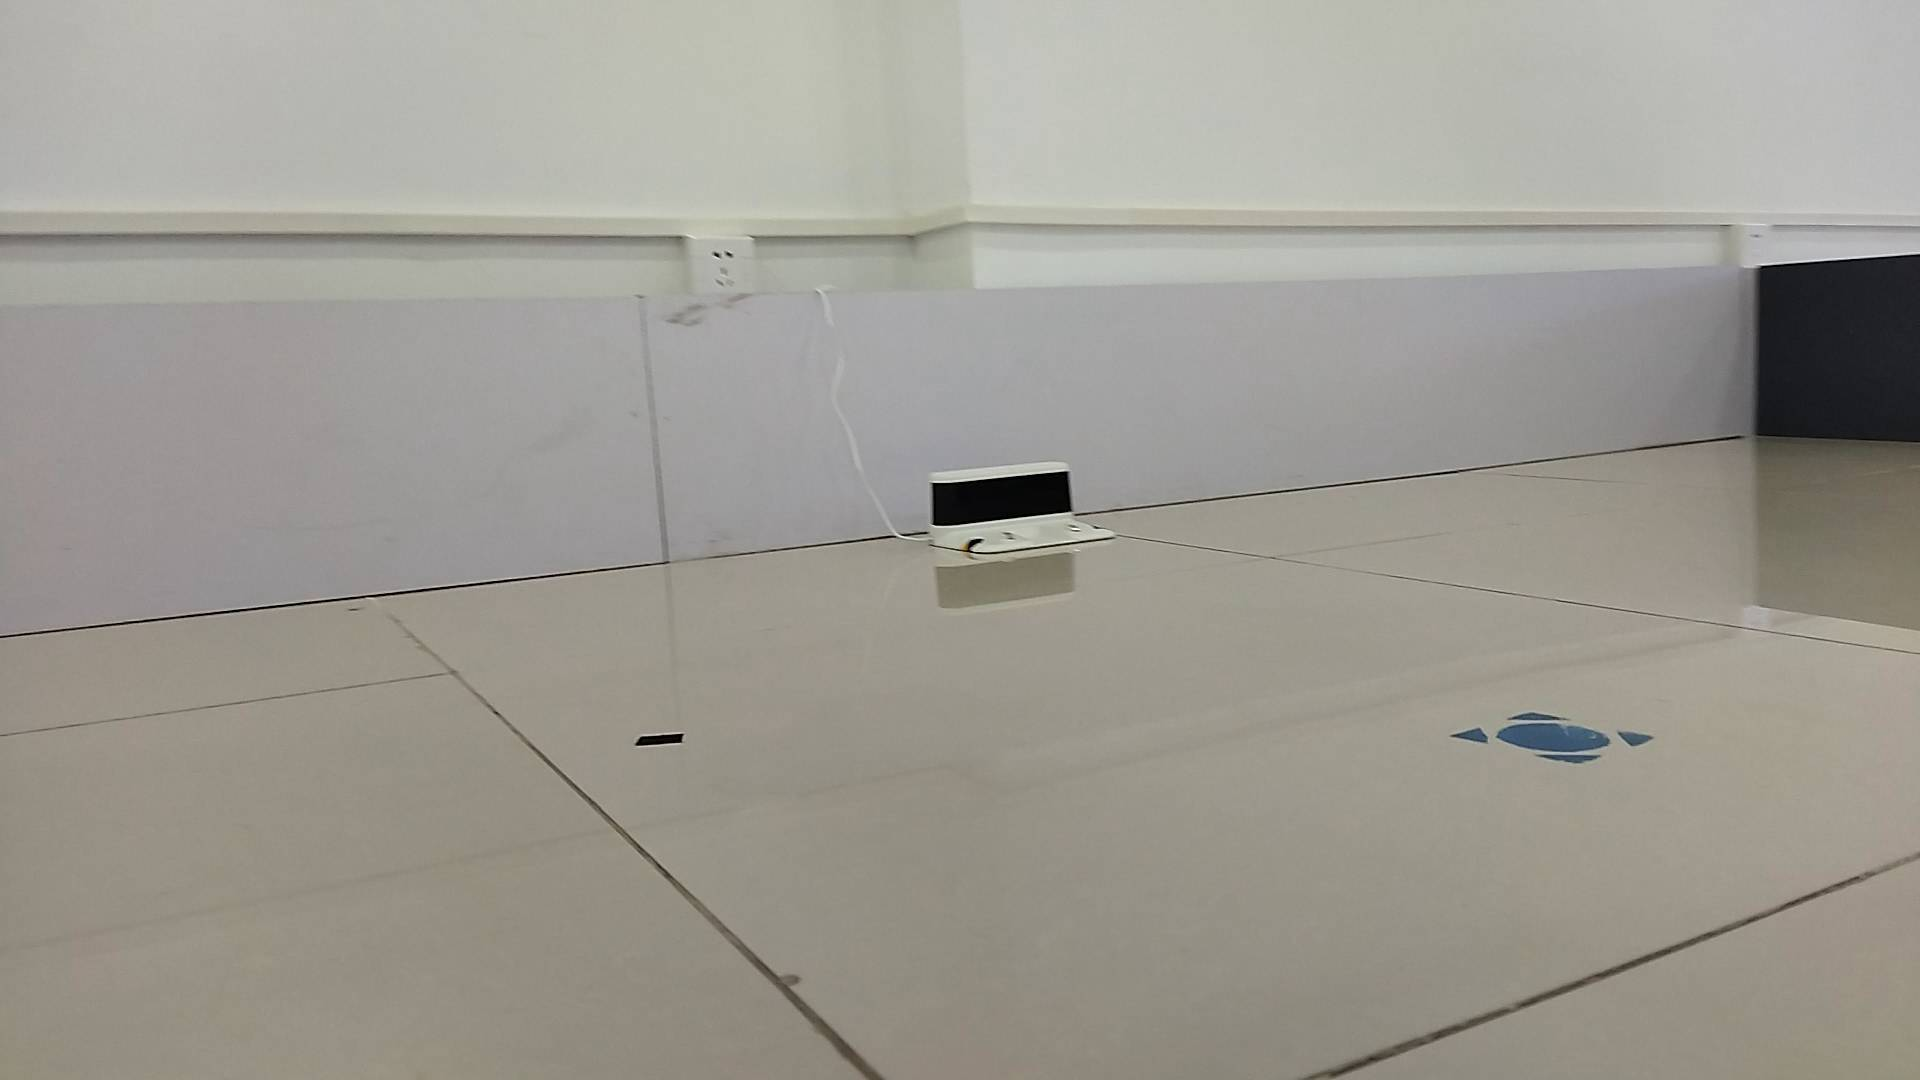recharge seat: (928, 460, 1118, 553)
